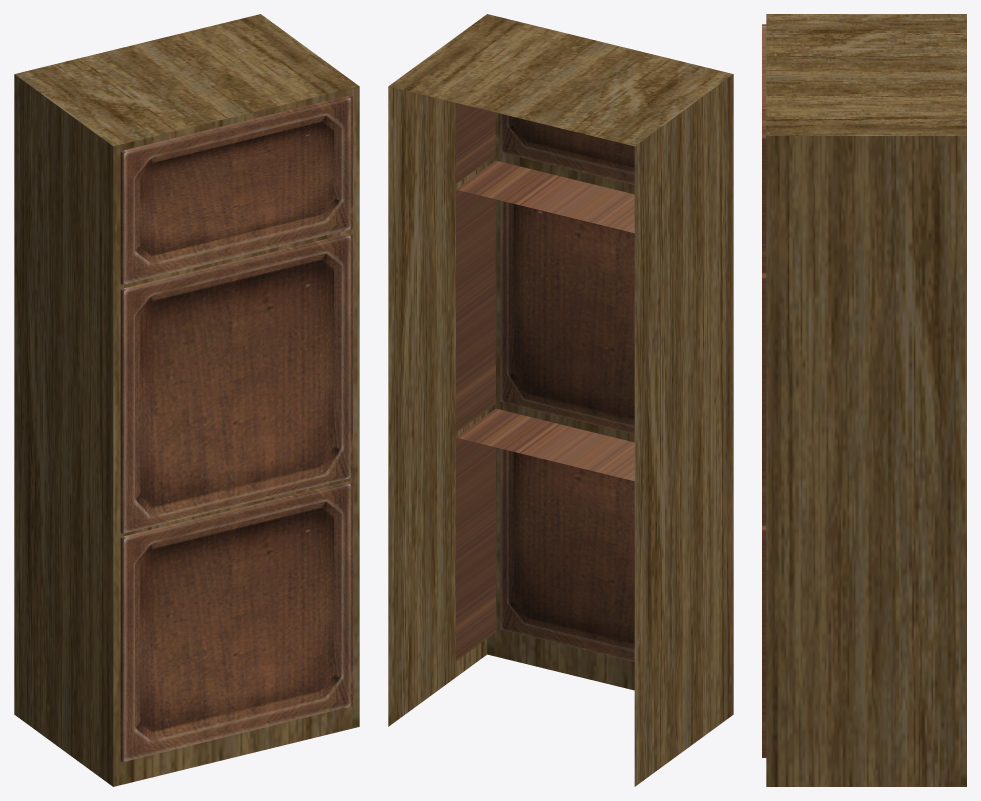
Rendered from cj_kitch1_l.obj.
3 renders of one model, left to right at view 1: azimuth 30°, elevation 25°; view 2: azimuth 150°, elevation 25°; view 3: azimuth 270°, elevation 25°, orthographic.
Parts seen in each view (by area): view 1: CJ_KITCH1_L; view 2: CJ_KITCH1_L; view 3: CJ_KITCH1_L.
Part boxes in pixels (box(x1,y1,x2,y2)): CJ_KITCH1_L: box(14, 14, 359, 786); CJ_KITCH1_L: box(388, 14, 733, 786); CJ_KITCH1_L: box(762, 14, 966, 786).
Size of the model in its own units: 1 by 2.48 by 0.7093.
